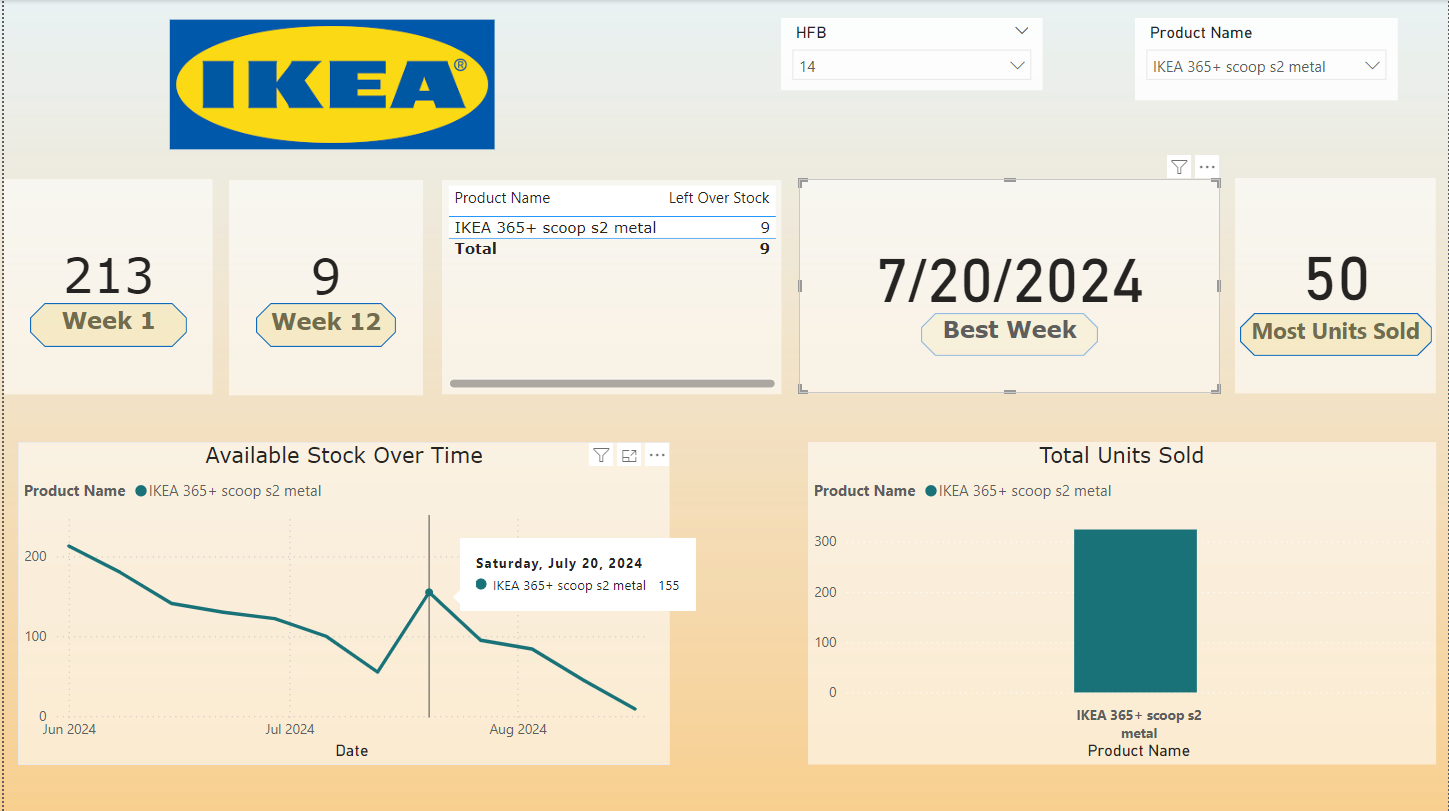

This screenshot's page, from the dashboard's own definition file:
{"tool":"powerbi","page":{"name":"projection","canvas":[1280,720],"ordinal":0},"visuals":[{"type":"lineChart","title":"Available Stock Over Time","fields":{"Category":["all_together.Date.1"],"Y":["Sum(all_together.AVAILABLESTOCK)"],"Series":["all_together.ARTNAME_UNICODE"]},"box":[12.4,391.9,578.1,286.4],"z":0},{"type":"slicer","fields":{"Values":["all_together.HFB"]},"box":[689.2,16.2,232.5,63.9],"z":1000},{"type":"slicer","fields":{"Values":["all_together.ARTNAME_UNICODE"]},"box":[1002.9,16,233.2,72.7],"z":2000},{"type":"clusteredColumnChart","title":"Total Units Sold","fields":{"Y":["all_together.Total_Units_Sold"],"Category":["all_together.ARTNAME_UNICODE"],"Series":["all_together.ARTNAME_UNICODE"]},"box":[712.9,391.9,556.8,286.4],"z":3000},{"type":"card","fields":{"Values":["all_together.Best_Week_Date"]},"box":[704.9,158.7,373.3,189.8],"z":4000},{"type":"card","fields":{"Values":["all_together.Starting_Stock"]},"box":[0,158.7,185.3,190.6],"z":5000},{"type":"card","fields":{"Values":["all_together.Ending_Stock"]},"box":[199.5,159.6,172,190.6],"z":6000},{"type":"tableEx","fields":{"Values":["all_together.ARTNAME_UNICODE","all_together.Ending_Stock_Greater_Than_Zero"]},"box":[388.4,159.6,300.6,189.8],"z":7000},{"type":"image","box":[0,12.2,582.6,124.9],"z":8000},{"type":"card","fields":{"Values":["all_together.Best_Week_Units_Sold"]},"box":[1091.5,157.8,178.2,190.6],"z":14000},{"type":"shape","box":[223.4,268.7,124.1,39],"z":20000},{"type":"shape","box":[813.1,277.5,156.9,38.1],"z":21000},{"type":"shape","box":[23.1,268.7,139.2,39],"z":22000},{"type":"shape","box":[1096,277.5,170.2,38.1],"z":23000}]}

Visuals, with their boxes in screenshot pixels (x1, y1, x2, y2), scaled from the page's 1280x720 canvas onto the 1449x811 screenshot:
"Available Stock Over Time" lineChart: 14, 441, 668, 764
slicer - all_together.HFB: 780, 18, 1043, 90
slicer - all_together.ARTNAME_UNICODE: 1135, 18, 1399, 100
"Total Units Sold" clusteredColumnChart: 807, 441, 1437, 764
card - all_together.Best_Week_Date: 798, 179, 1221, 393
card - all_together.Starting_Stock: 0, 179, 210, 393
card - all_together.Ending_Stock: 226, 180, 421, 394
tableEx - all_together.ARTNAME_UNICODE x all_together.Ending_Stock_Greater_Than_Zero: 440, 180, 780, 394
image: 0, 14, 660, 154
card - all_together.Best_Week_Units_Sold: 1236, 178, 1437, 392
shape: 253, 303, 393, 347
shape: 920, 313, 1098, 355
shape: 26, 303, 184, 347
shape: 1241, 313, 1433, 355
